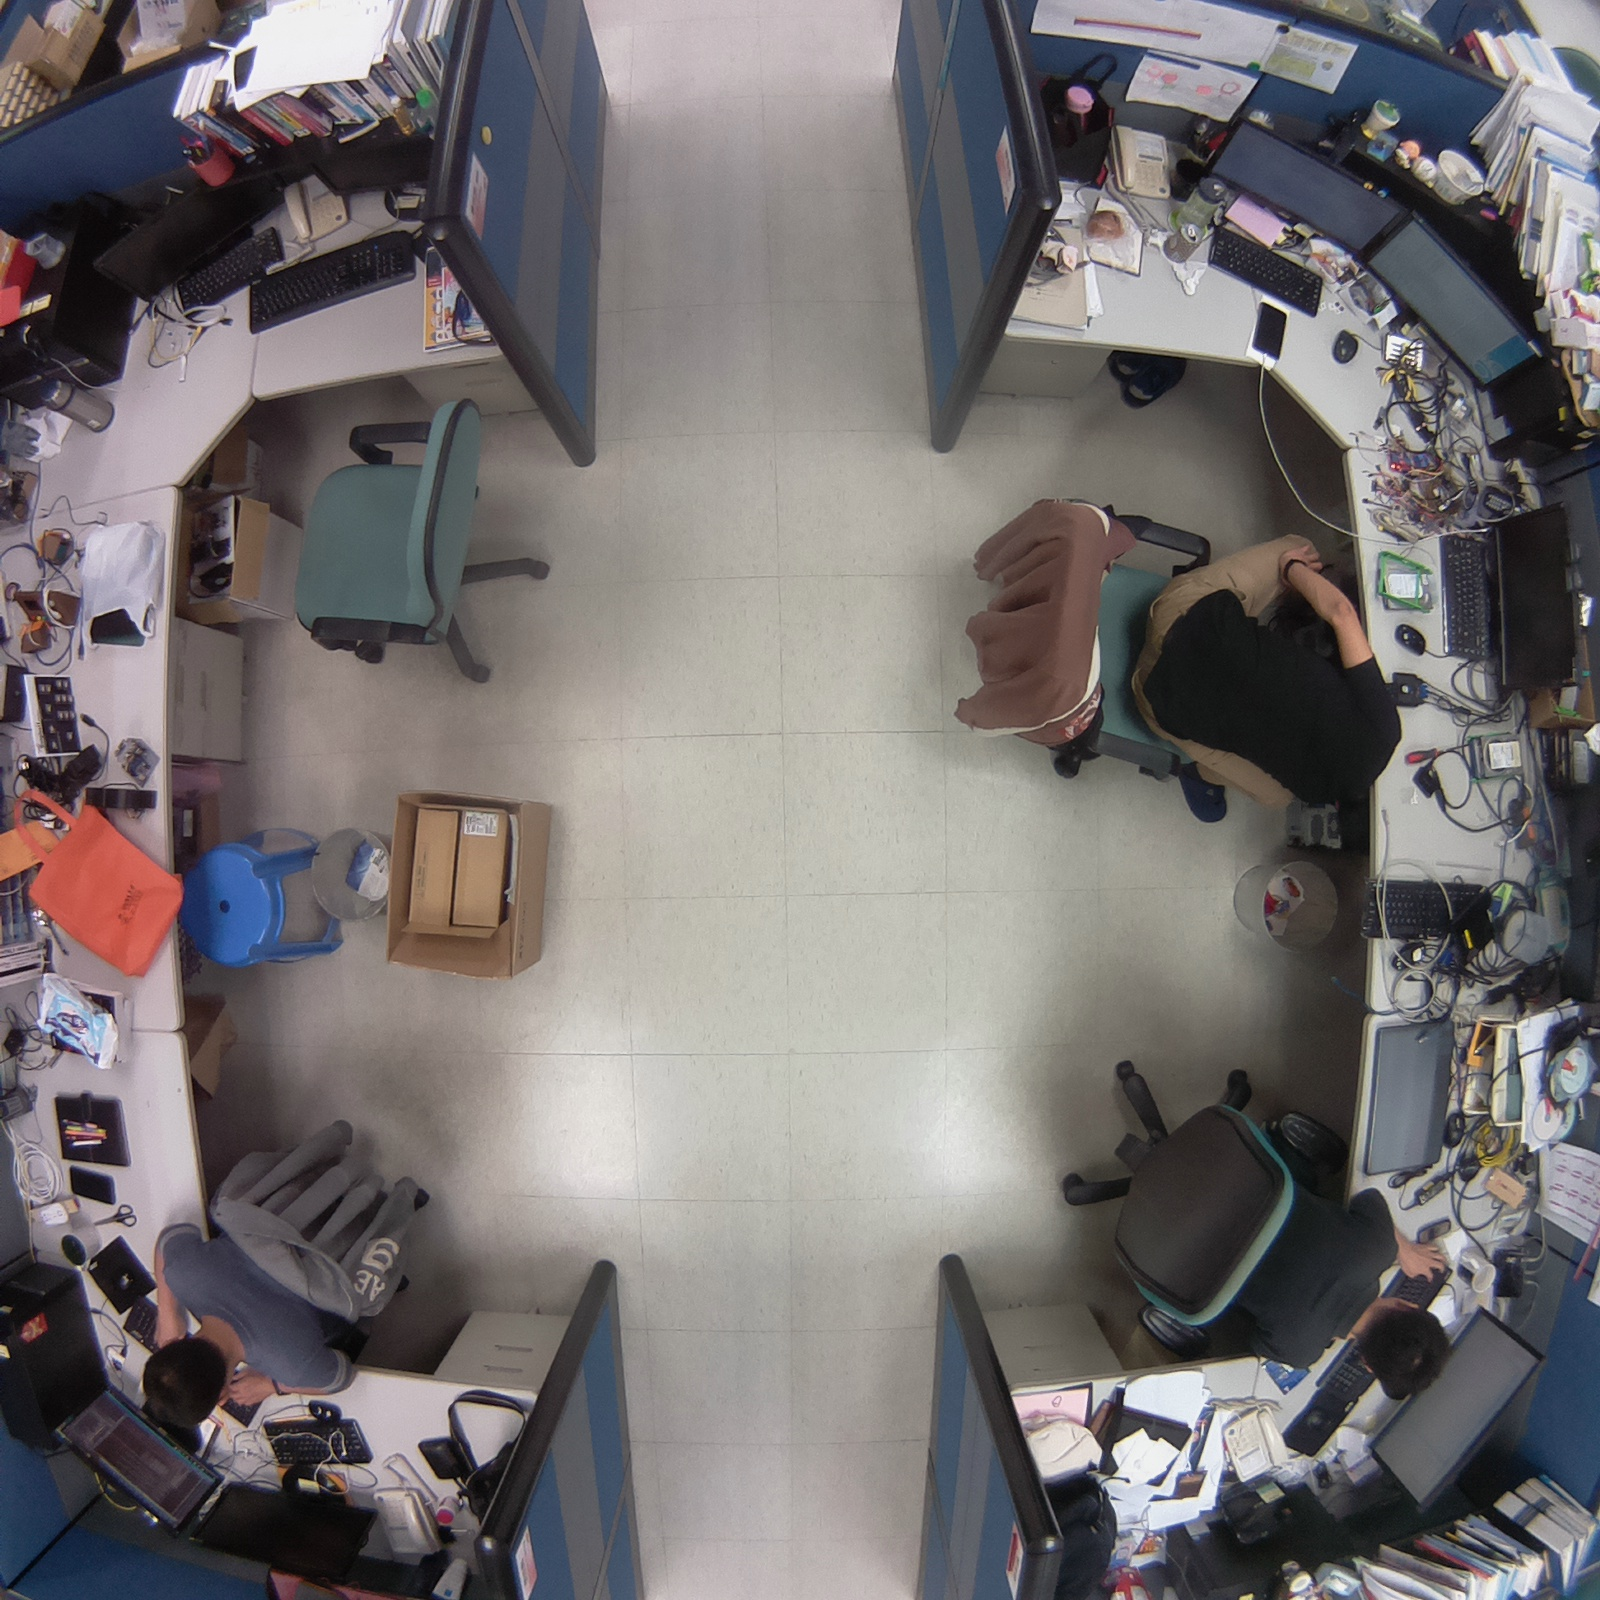chair: (283, 365, 594, 699)
head: (133, 1331, 241, 1435), (1352, 1302, 1458, 1402)
sitting: (927, 481, 1417, 837), (1053, 1040, 1458, 1407), (124, 1086, 455, 1438)
